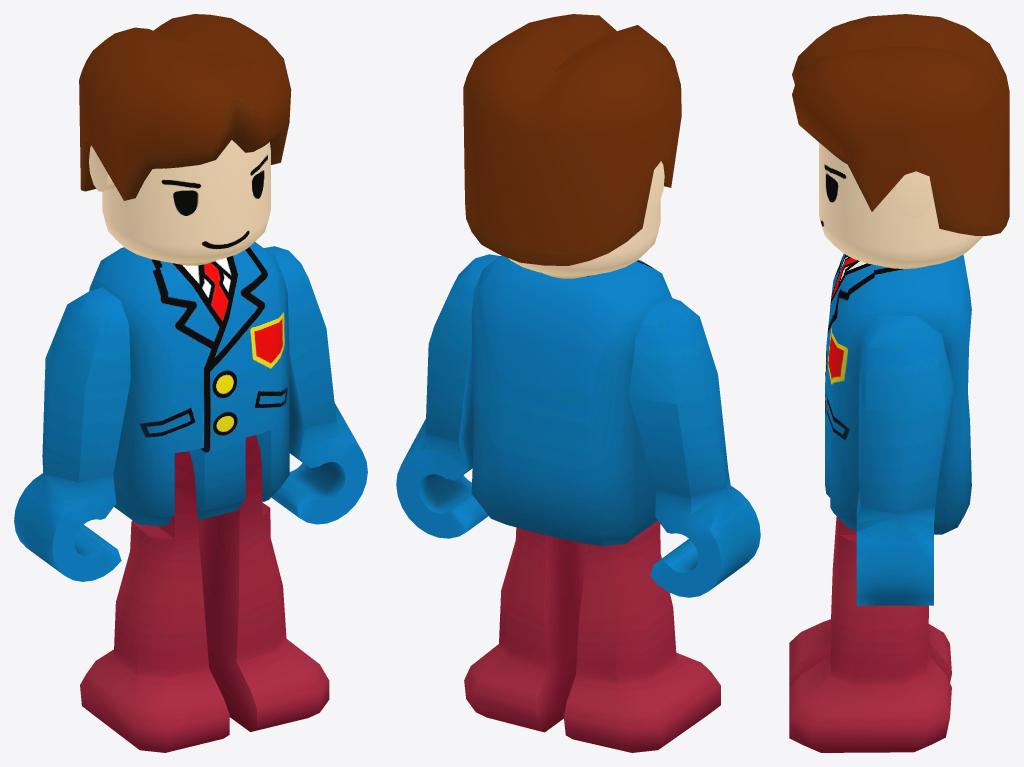
File: plakids_d1.glb
The picture shows the model from 3 angles, left to right: view 1: azimuth 30°, elevation 25°; view 2: azimuth 150°, elevation 25°; view 3: azimuth 270°, elevation 25°; orthographic projection. The views are drawn at different scales.
Visible parts, largest first — view 1: plakids_head, plakids_dou, plakids_R_leg, plakids_R_arm, plakids_L_leg, plakids_L_arm; view 2: plakids_head, plakids_dou, plakids_R_arm, plakids_R_leg, plakids_L_leg, plakids_L_arm; view 3: plakids_head, plakids_L_arm, plakids_L_leg, plakids_dou, plakids_R_leg.
Boxes of the visible parts, x1,y1,x2,y2 form: plakids_head: (79, 14, 291, 265); plakids_dou: (89, 242, 289, 526); plakids_R_leg: (80, 451, 229, 752); plakids_R_arm: (14, 287, 130, 581); plakids_L_leg: (197, 435, 329, 731); plakids_L_arm: (264, 246, 367, 524); plakids_head: (463, 14, 681, 278); plakids_dou: (471, 255, 671, 545); plakids_R_arm: (629, 296, 760, 597); plakids_R_leg: (563, 520, 720, 752); plakids_L_leg: (464, 527, 587, 732); plakids_L_arm: (396, 254, 500, 538); plakids_head: (792, 14, 1009, 269); plakids_L_arm: (856, 316, 953, 605); plakids_L_leg: (789, 519, 951, 752); plakids_dou: (825, 254, 971, 534); plakids_R_leg: (789, 516, 951, 686).
Size of the model in its own units: 1.86 by 3.74 by 1.11.
Materials: 2 (2 with a texture image).
